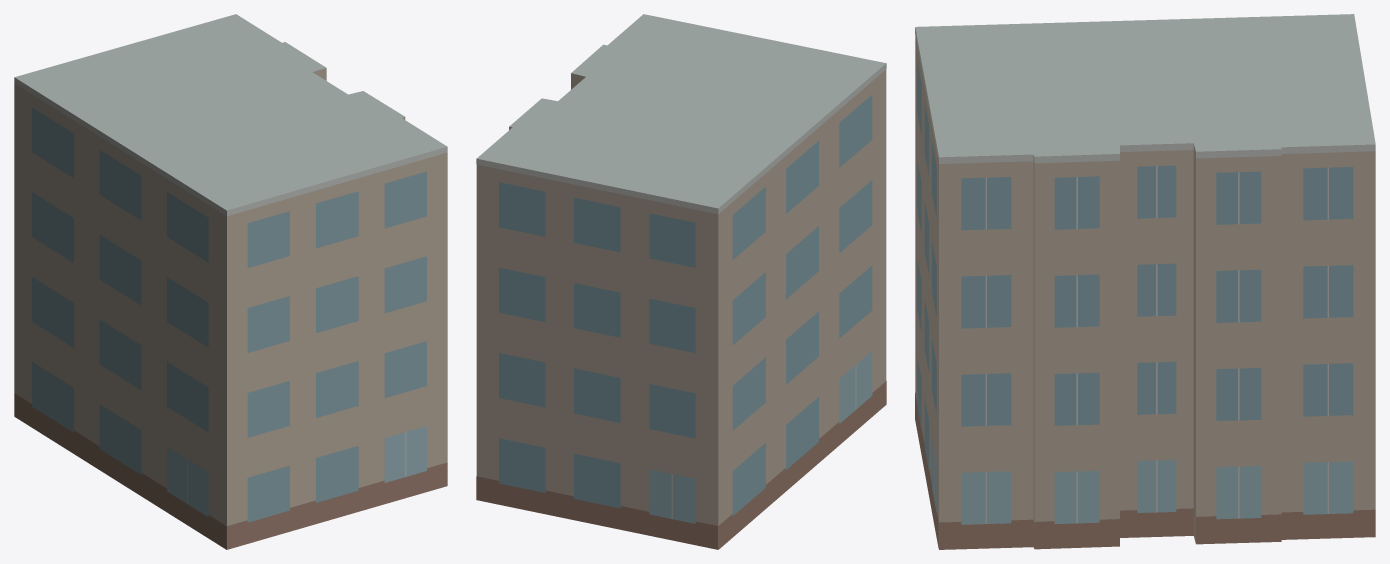
The model's file is survey-upis-32619823.glb.
3 views of the same model, side by side, from view 1: azimuth 30°, elevation 25°; view 2: azimuth 150°, elevation 25°; view 3: azimuth 270°, elevation 25° (orthographic). The views are drawn at different scales.
Visible parts, largest first — view 1: survey-upis-32619823.tmp; view 2: survey-upis-32619823.tmp; view 3: survey-upis-32619823.tmp.
Part boxes in pixels (x1=…): survey-upis-32619823.tmp: x1=14, y1=14, x2=447, y2=549; survey-upis-32619823.tmp: x1=476, y1=14, x2=886, y2=549; survey-upis-32619823.tmp: x1=915, y1=14, x2=1375, y2=549.
Size of the model in its own units: 11.13 by 14.2 by 15.11.
